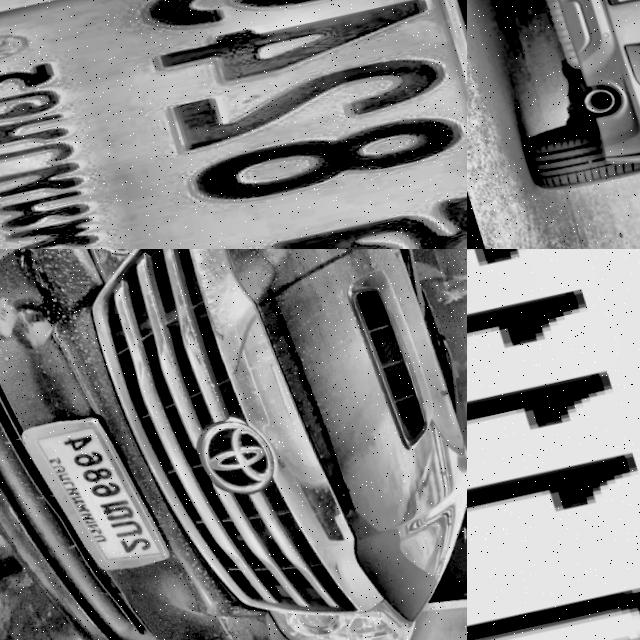license-plate: (0, 0, 467, 249), (467, 249, 640, 640), (9, 403, 167, 584)
